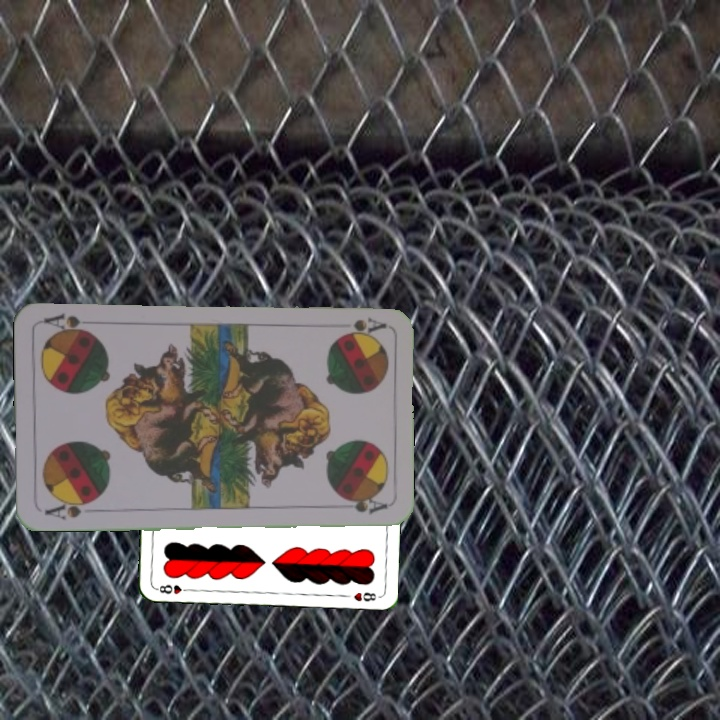H8: (152, 581, 193, 597)
SA: (41, 496, 98, 522), (340, 313, 387, 336)
